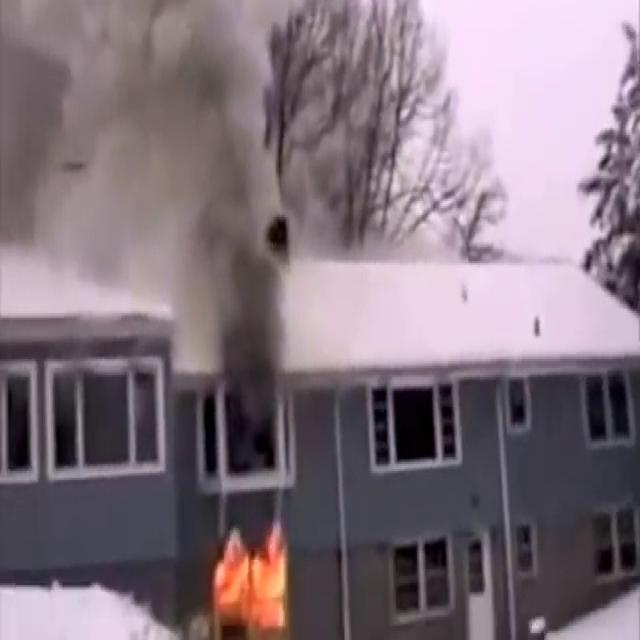Fire: (208, 514, 299, 634)
Smoke: (0, 0, 272, 287), (187, 174, 296, 427)
